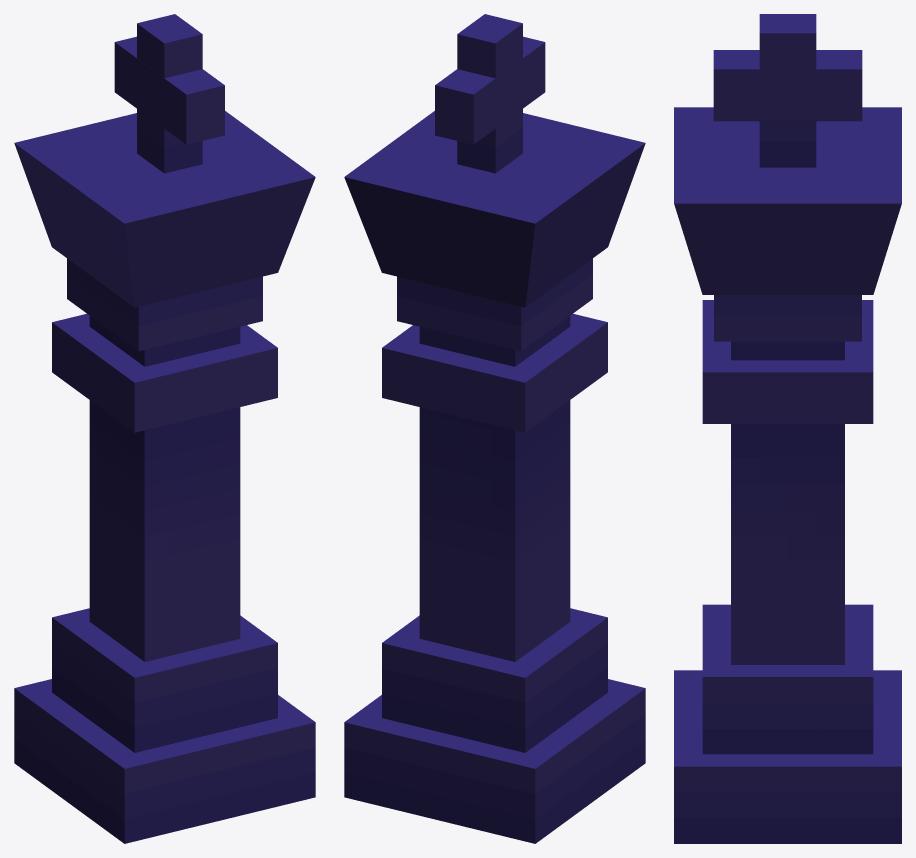
Rendered from King Black.gltf.
The picture shows the model from 3 angles, left to right: view 1: azimuth 30°, elevation 25°; view 2: azimuth 150°, elevation 25°; view 3: azimuth 270°, elevation 25°; orthographic projection. The views are drawn at different scales.
Visible parts, largest first — view 1: cube (×8); view 2: cube (×8); view 3: cube (×8).
Boxes of the visible parts, x1,y1,x2,y2 form: cube (×8): (14,14,315,843); cube (×8): (344,14,645,843); cube (×8): (674,14,901,843).
Bounding box in the file's own units: 0.125 × 0.4687 × 0.125.
1 material, 1 textured.
